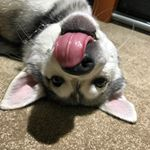puppy: (1, 10, 142, 126)
